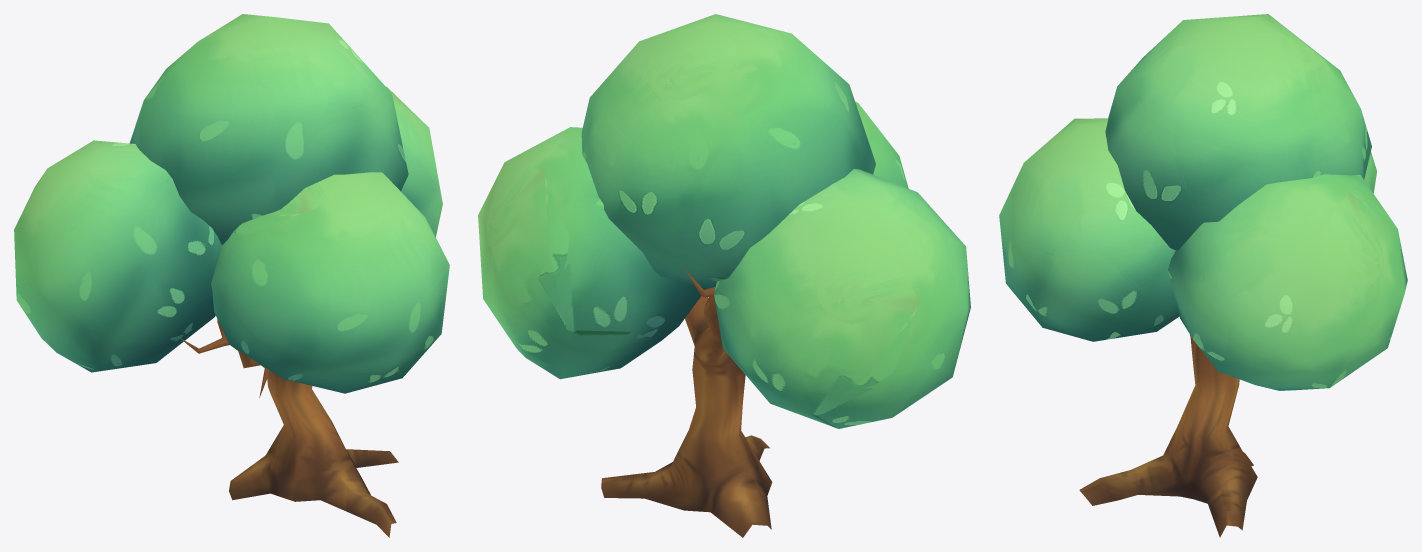
File: tree_1.gltf
3 views of the same model, side by side, from view 1: azimuth 30°, elevation 25°; view 2: azimuth 150°, elevation 25°; view 3: azimuth 270°, elevation 25° (orthographic). The views are drawn at different scales.
Parts seen in each view (by area): view 1: Tree1Mesh; view 2: Tree1Mesh; view 3: Tree1Mesh.
Part boxes in pixels (x1=…): Tree1Mesh: x1=14, y1=14, x2=449, y2=537; Tree1Mesh: x1=478, y1=14, x2=970, y2=537; Tree1Mesh: x1=999, y1=14, x2=1407, y2=537.
Size of what is drawn, in the model's own units: 4.4 by 4.75 by 3.83.
2 materials, 2 textured.
